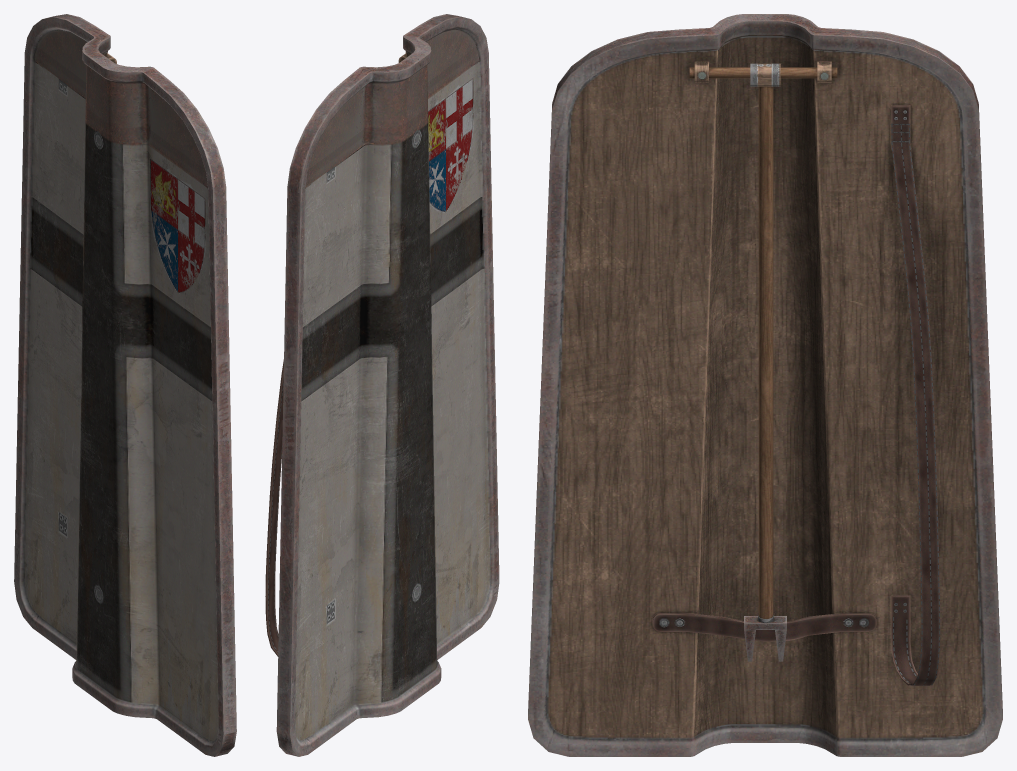
The model's file is Crossbowman's_Shield_01.fbx.
3 views of the same model, side by side, from view 1: azimuth 30°, elevation 25°; view 2: azimuth 150°, elevation 25°; view 3: azimuth 270°, elevation 25° (orthographic). The views are drawn at different scales.
Visible parts, largest first — view 1: Crossbowman's_Shield_01_LOD0; view 2: Crossbowman's_Shield_01_LOD0; view 3: Crossbowman's_Shield_01_LOD0, Shield_Holder_LOD0.
Part boxes in pixels (<box>): Crossbowman's_Shield_01_LOD0: <box>14,14,236,756</box>; Crossbowman's_Shield_01_LOD0: <box>265,14,499,756</box>; Crossbowman's_Shield_01_LOD0: <box>528,14,1002,756</box>; Shield_Holder_LOD0: <box>744,63,786,661</box>.
Size of what is drawn, in the model's own units: 13.63 by 107 by 63.72.
